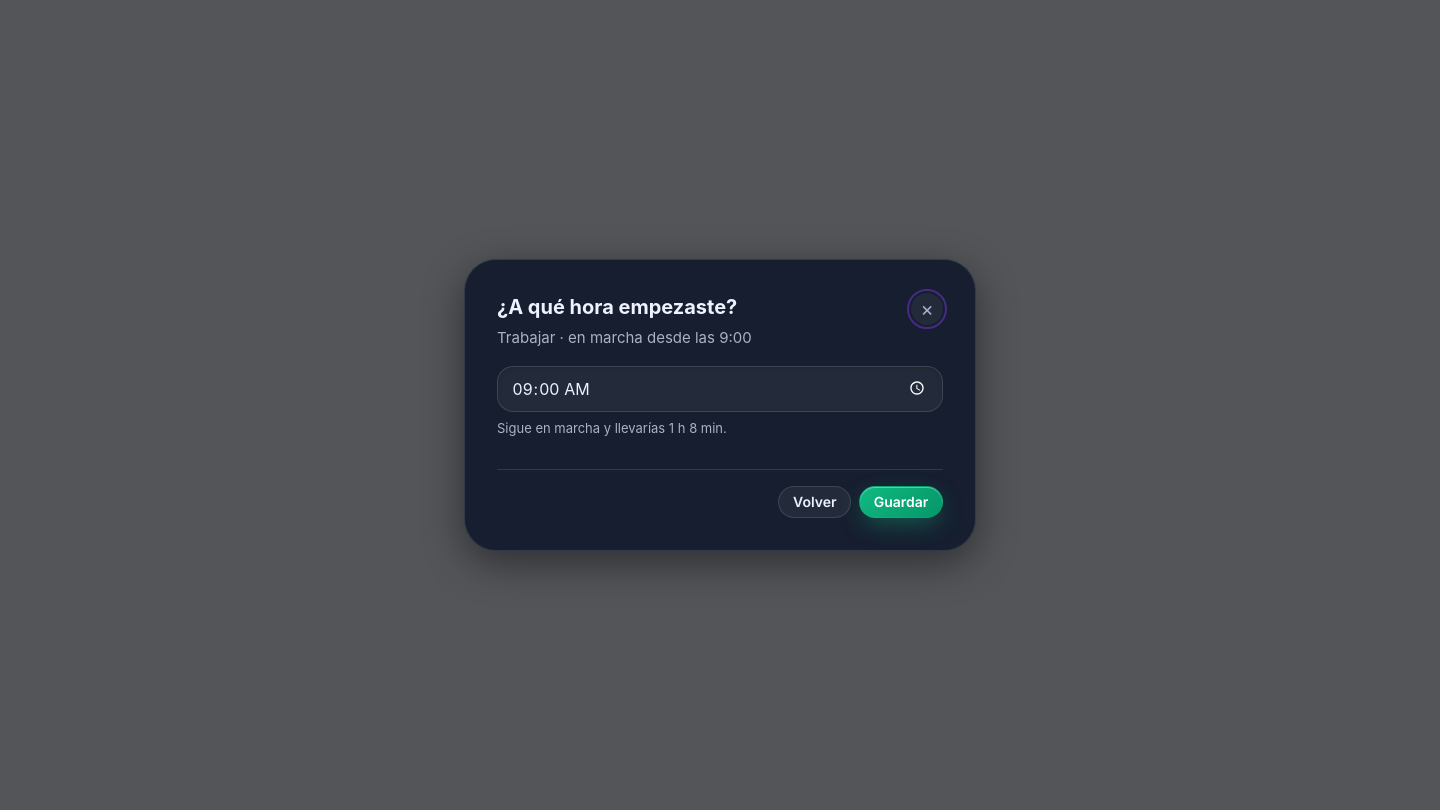
Test case: VidaStartTimeSheet › criterio 359 — ni una palabra de reproche, y se dice lo que va a contar
Replace the text in the time field named "Hora a la que empezaste" with "08:07" at (720, 389), box [497,366,943,412]
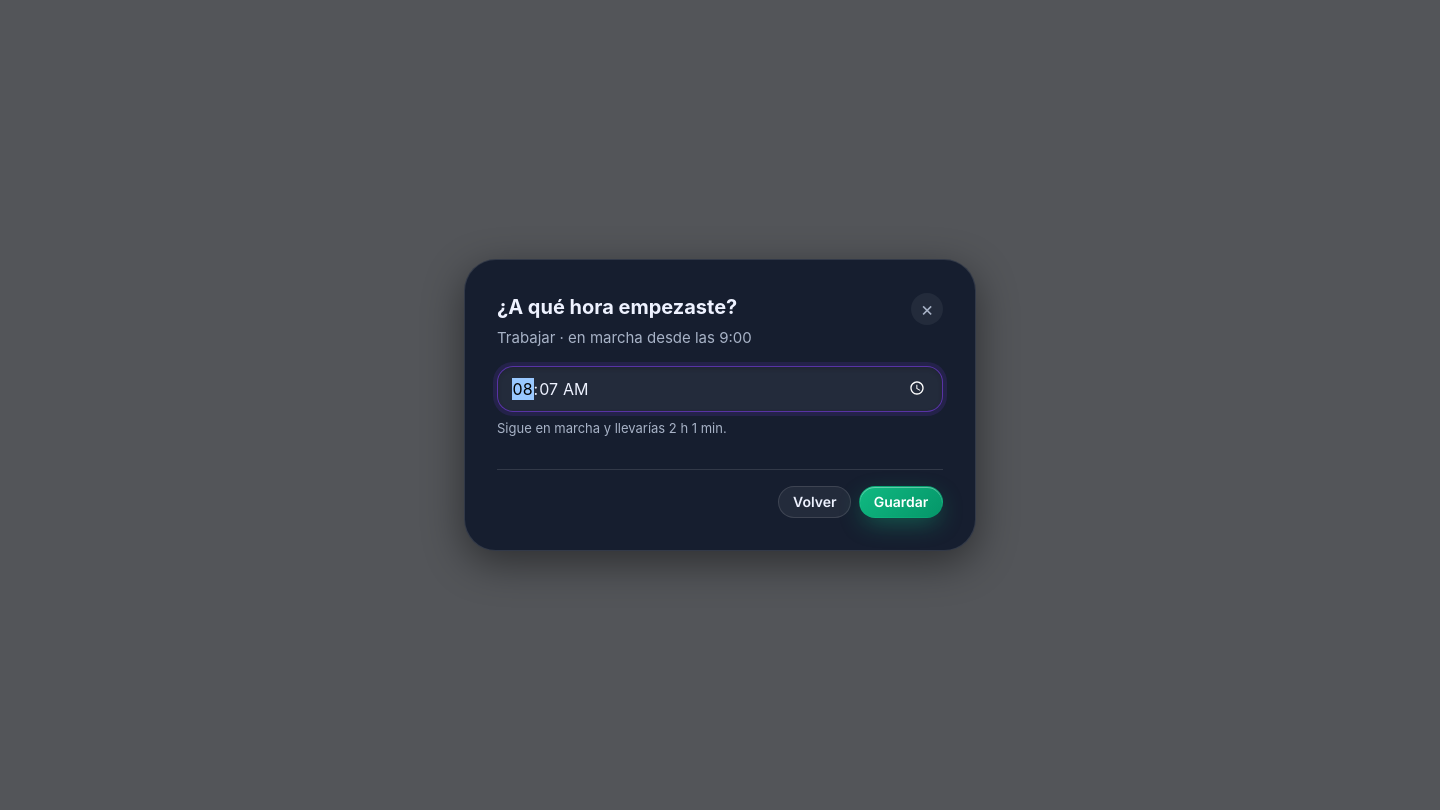
Now the text "Sigue en marcha y llevarías 2 h 1 min." is shown, box [497,420,727,436]
